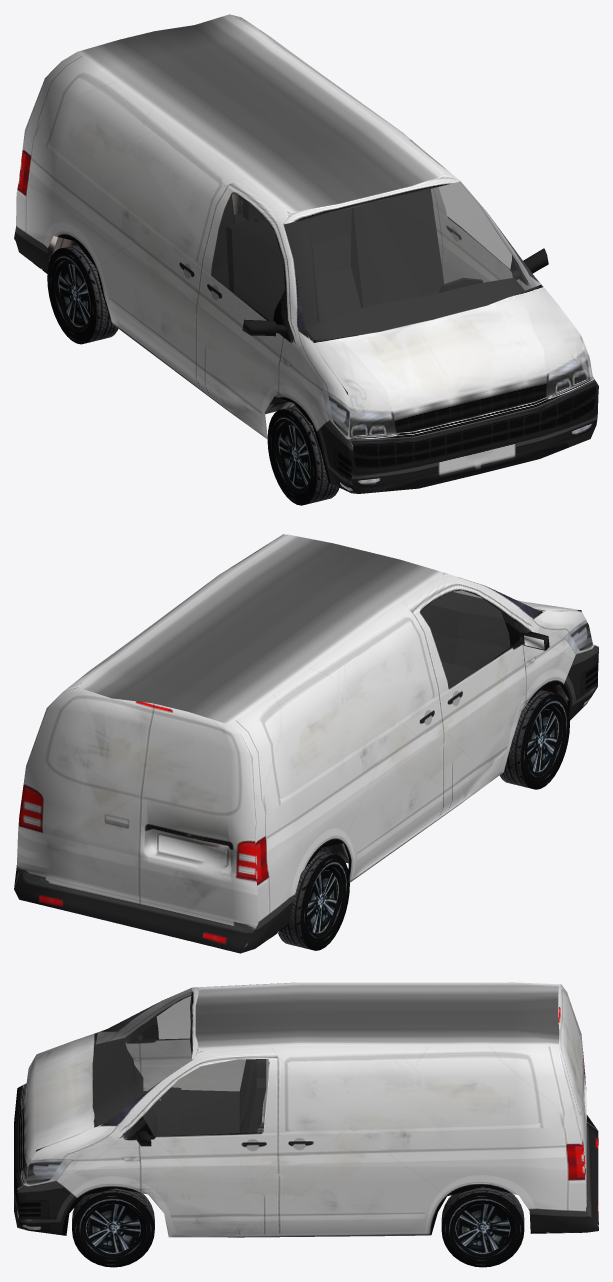
File: van.glb
3 views of the same model, one above another, from view 1: azimuth 30°, elevation 25°; view 2: azimuth 150°, elevation 25°; view 3: azimuth 270°, elevation 25° (orthographic). The views are drawn at different scales.
Visible parts, largest first — view 1: Cube.002, Cube.001, Cylinder.001, Cylinder, Cube.003, Cube, Cube.004; view 2: Cube.002, Cube.001, Cylinder, Cylinder.001; view 3: Cube.002, Cube.001, Cylinder.001, Cylinder.
Boxes of the visible parts, <box> form: Cube.002: <box>14,14,598,493</box>; Cube.001: <box>226,189,524,404</box>; Cylinder.001: <box>47,244,118,344</box>; Cylinder: <box>267,406,339,505</box>; Cube.003: <box>211,195,350,288</box>; Cube: <box>242,248,548,336</box>; Cube.004: <box>47,192,295,413</box>; Cube.002: <box>14,534,598,953</box>; Cube.001: <box>420,591,510,688</box>; Cylinder: <box>499,690,569,789</box>; Cylinder.001: <box>278,851,349,950</box>; Cube.002: <box>14,982,598,1237</box>; Cube.001: <box>92,1038,266,1136</box>; Cylinder.001: <box>441,1186,524,1267</box>; Cylinder: <box>72,1188,154,1267</box>.
Size of the model in its own units: 3.17 by 2.47 by 6.34.
Materials: 8 (4 with a texture image).
